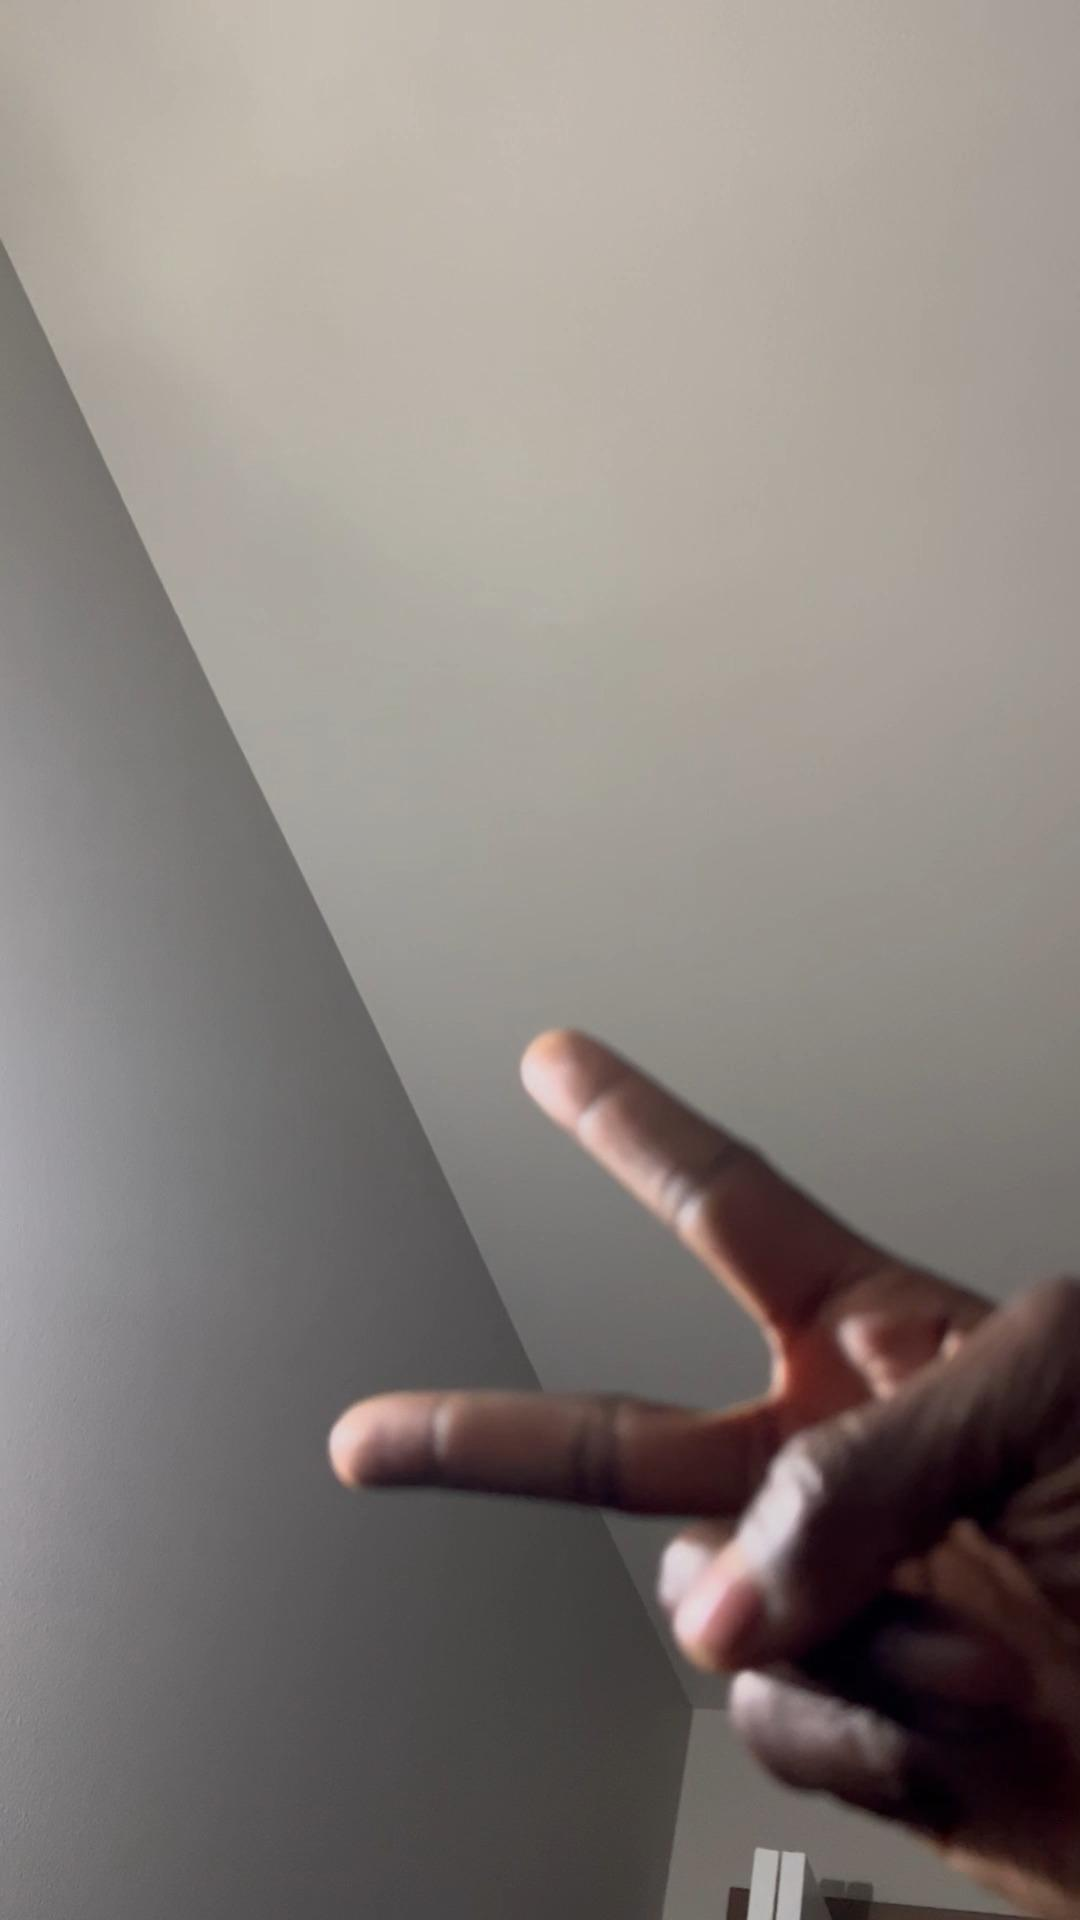Scissors: (320, 1017, 1080, 1920)
